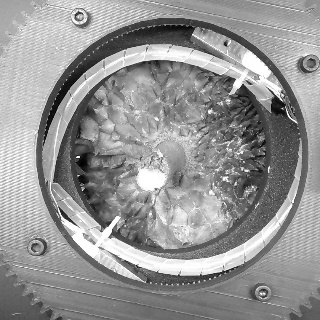base: (151, 136, 192, 174)
end: (135, 167, 168, 192)
